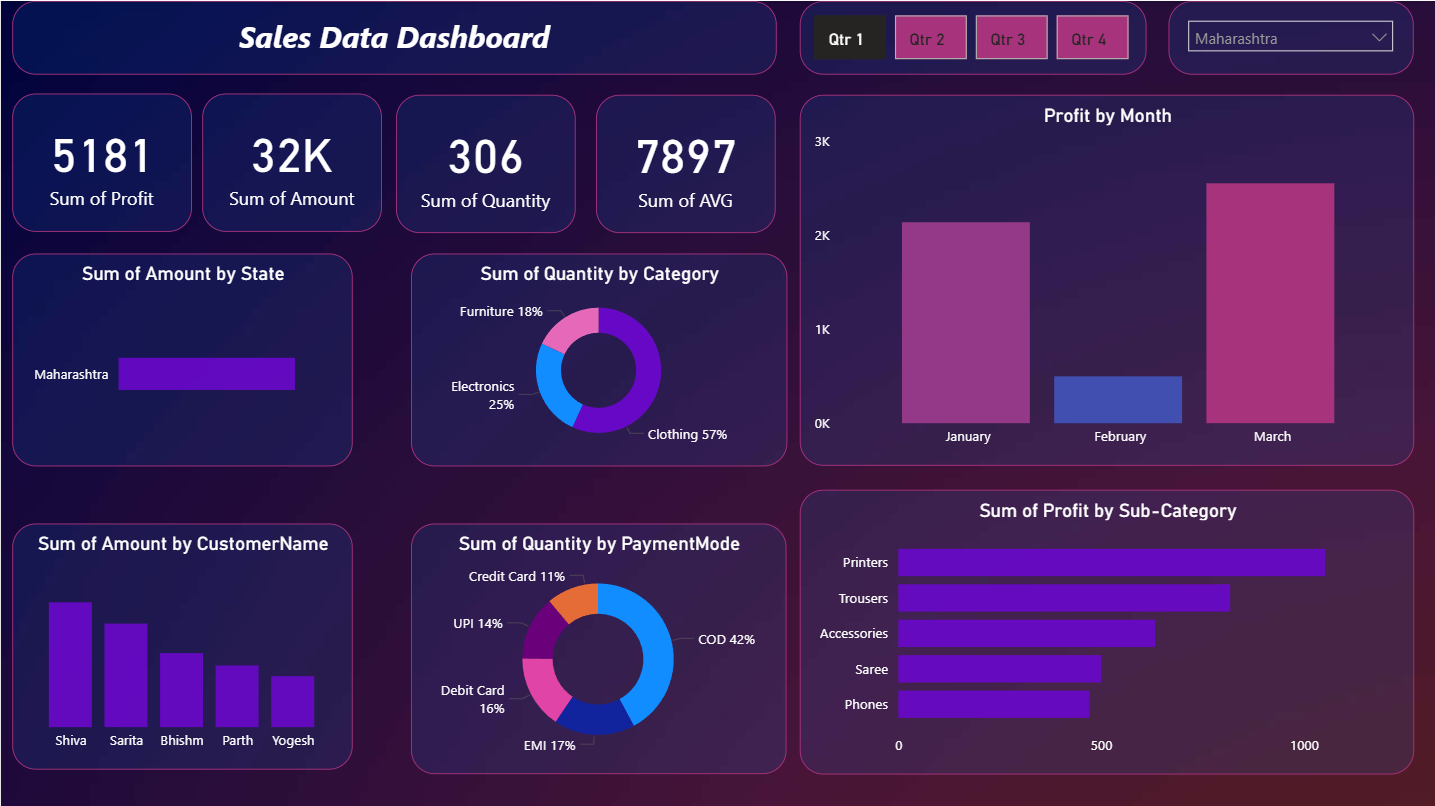

What the dashboard file says about the page in this screenshot:
{"tool":"powerbi","page":{"name":"Page 1","canvas":[1280,720],"ordinal":0},"visuals":[{"type":"textbox","box":[9.6,0,680.6,65.9],"z":0},{"type":"columnChart","title":"Profit by Month","fields":{"Category":["Orders.Order Date.Variation.Date Hierarchy.Month"],"Y":["Details.Profit"]},"box":[710.8,83.7,547.5,330.7],"z":1000},{"type":"barChart","fields":{"Category":["Details.Sub-Category"],"Y":["Details.Profit"]},"box":[710.8,435,547.5,253.9],"z":2000},{"type":"donutChart","fields":{"Category":["Details.Category"],"Y":["Details.Quantity"]},"box":[365,225,334.8,189.4],"z":3000},{"type":"donutChart","fields":{"Y":["Details.Quantity"],"Category":["Details.PaymentMode"]},"box":[365.6,465.7,334.2,223.2],"z":4000},{"type":"card","fields":{"Values":["Details.Profit"]},"box":[9.7,82,160,123],"z":5000},{"type":"card","fields":{"Values":["Details.Amount"]},"box":[179.8,82.3,160,123.5],"z":6000},{"type":"card","fields":{"Values":["Details.Quantity"]},"box":[351.3,83.7,160,123.5],"z":7000},{"type":"card","fields":{"Values":["Details.AVG"]},"box":[529.7,83.7,160,123.5],"z":8000},{"type":"barChart","fields":{"Category":["Orders.State"],"Y":["Details.Amount"]},"box":[9.6,225,303.3,189.4],"z":9000},{"type":"columnChart","fields":{"Category":["Orders.CustomerName"],"Y":["Details.Amount"]},"box":[9.6,465.2,303.3,219.6],"z":10000},{"type":"advancedSlicerVisual","fields":{"Values":["Orders.Order Date.Variation.Date Hierarchy.Quarter"]},"box":[710.8,0,308.7,65.9],"z":11000},{"type":"slicer","fields":{"Values":["Orders.State"]},"box":[1040.1,0,218.2,65.9],"z":12000}]}

Visuals, with their boxes in screenshot pixels (x1, y1, x2, y2), scaled from the page's 1280x720 canvas onto the 1435x806 screenshot:
textbox: locate(11, 0, 774, 74)
"Profit by Month" columnChart: locate(797, 94, 1411, 464)
barChart - Details.Sub-Category x Details.Profit: locate(797, 487, 1411, 771)
donutChart - Details.Category x Details.Quantity: locate(409, 252, 785, 464)
donutChart - Details.Quantity x Details.PaymentMode: locate(410, 521, 785, 771)
card - Details.Profit: locate(11, 92, 190, 229)
card - Details.Amount: locate(202, 92, 381, 230)
card - Details.Quantity: locate(394, 94, 573, 232)
card - Details.AVG: locate(594, 94, 773, 232)
barChart - Orders.State x Details.Amount: locate(11, 252, 351, 464)
columnChart - Orders.CustomerName x Details.Amount: locate(11, 521, 351, 767)
advancedSlicerVisual - Orders.Order Date.Variation.Date Hierarchy.Quarter: locate(797, 0, 1143, 74)
slicer - Orders.State: locate(1166, 0, 1411, 74)
